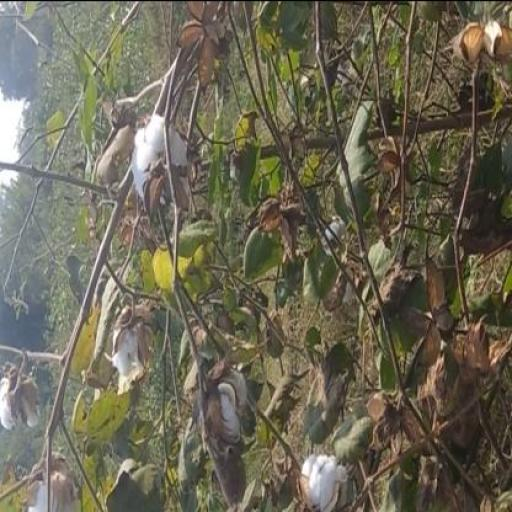cotton_ready: (173, 298, 254, 482), (6, 332, 73, 511), (129, 82, 201, 220), (296, 416, 353, 512), (118, 298, 163, 394)
